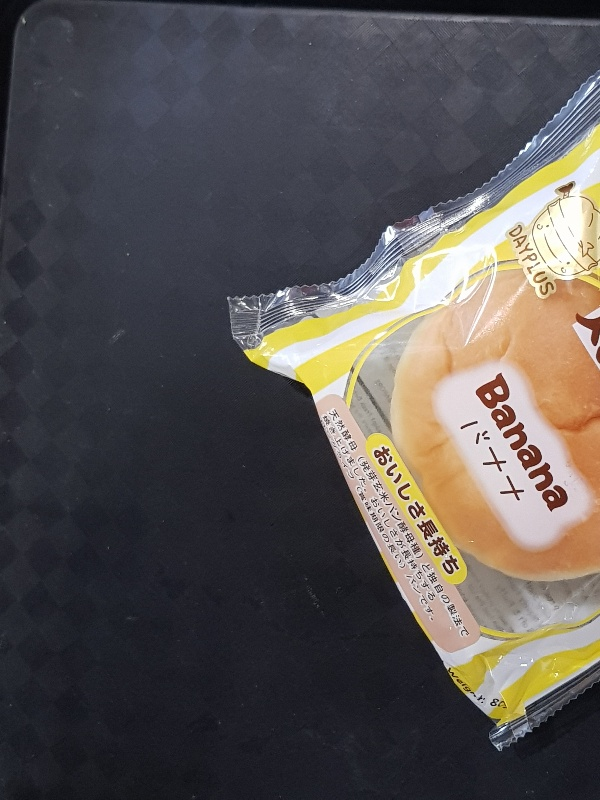Dayplus Banana: (227, 69, 600, 754)
